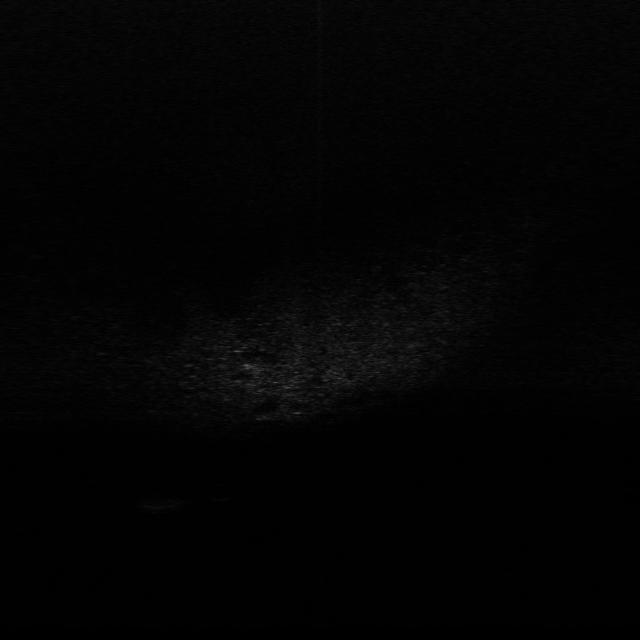ball: (210, 481, 238, 505)
circle cage: (128, 491, 192, 516)
